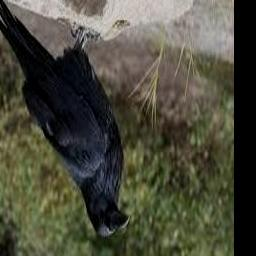Crow: (0, 0, 130, 237)
